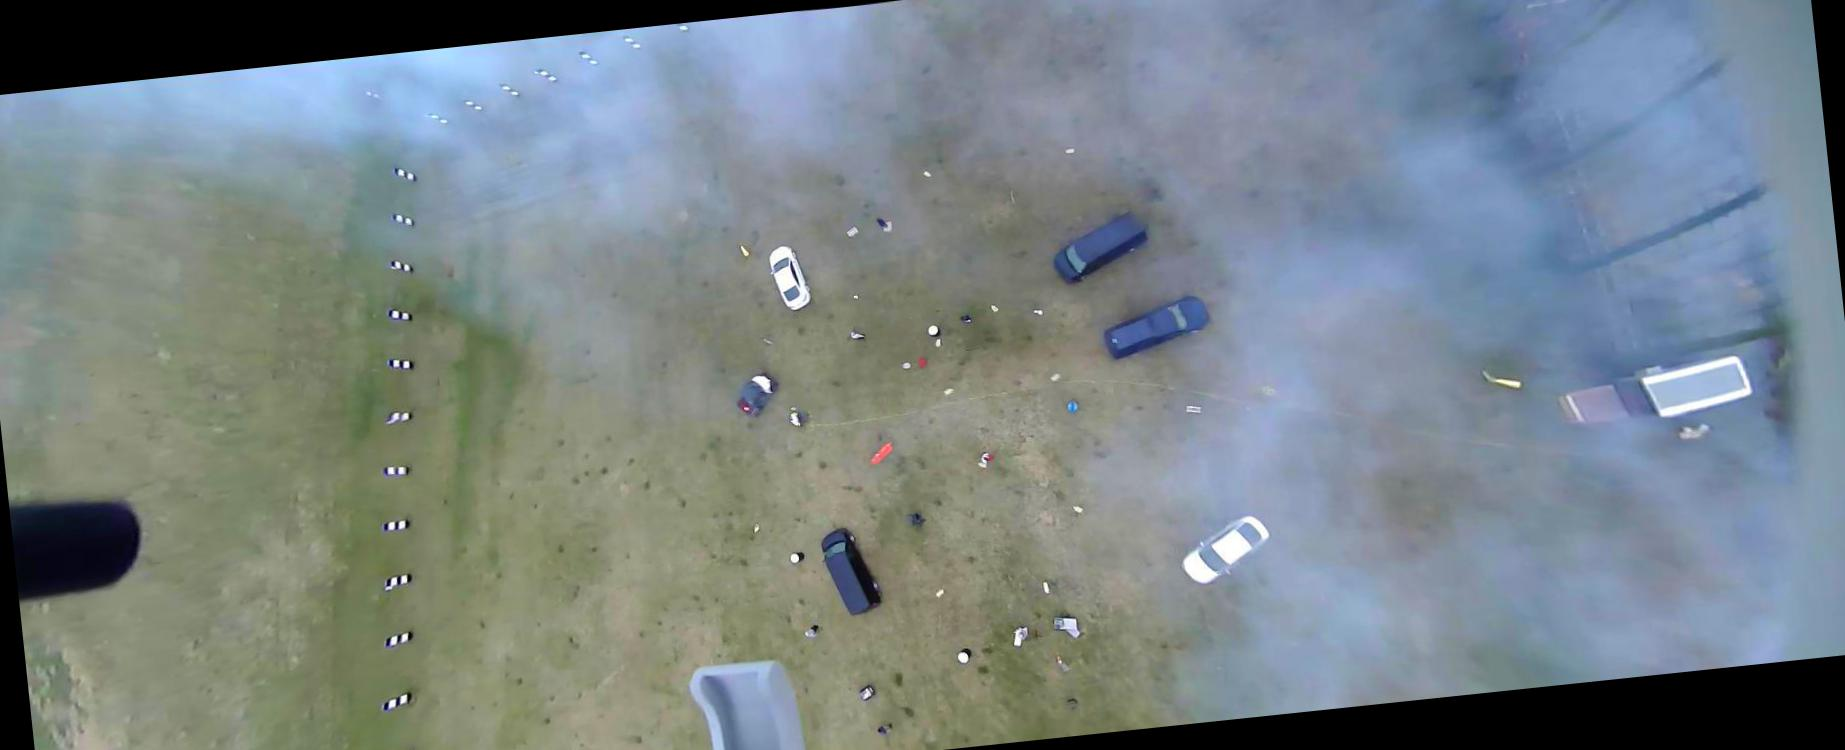vehicle: (1048, 210, 1151, 286), (1099, 293, 1212, 361), (1175, 513, 1275, 588), (819, 524, 886, 619), (766, 244, 813, 314), (732, 370, 782, 422)
